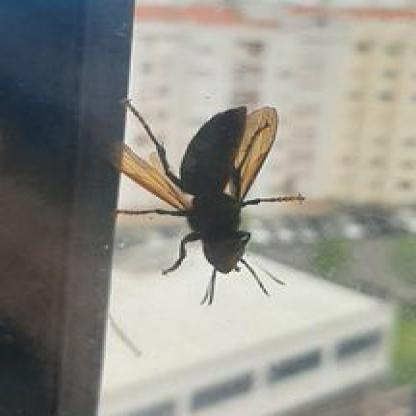Asian Hornet: (89, 90, 318, 309)
